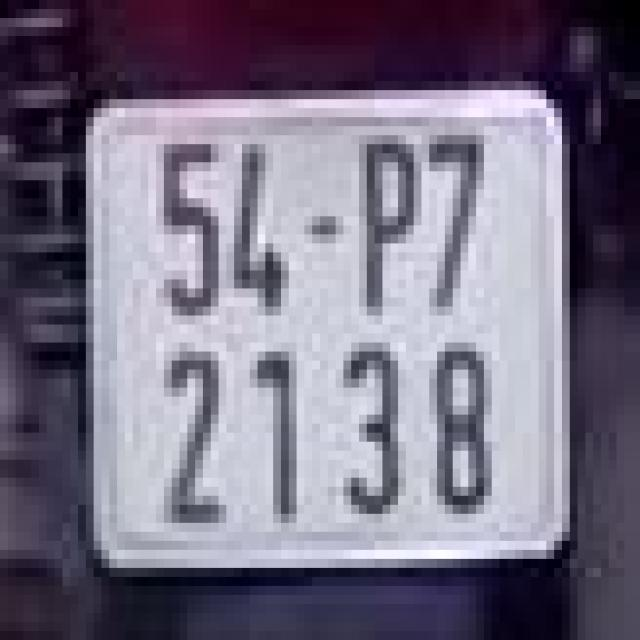1: (250, 342, 320, 541)
2: (156, 338, 242, 527)
3: (336, 338, 406, 518)
4: (226, 126, 296, 325)
5: (152, 135, 230, 325)
7: (426, 126, 496, 316)
8: (426, 329, 504, 527)
P: (348, 126, 426, 325)
